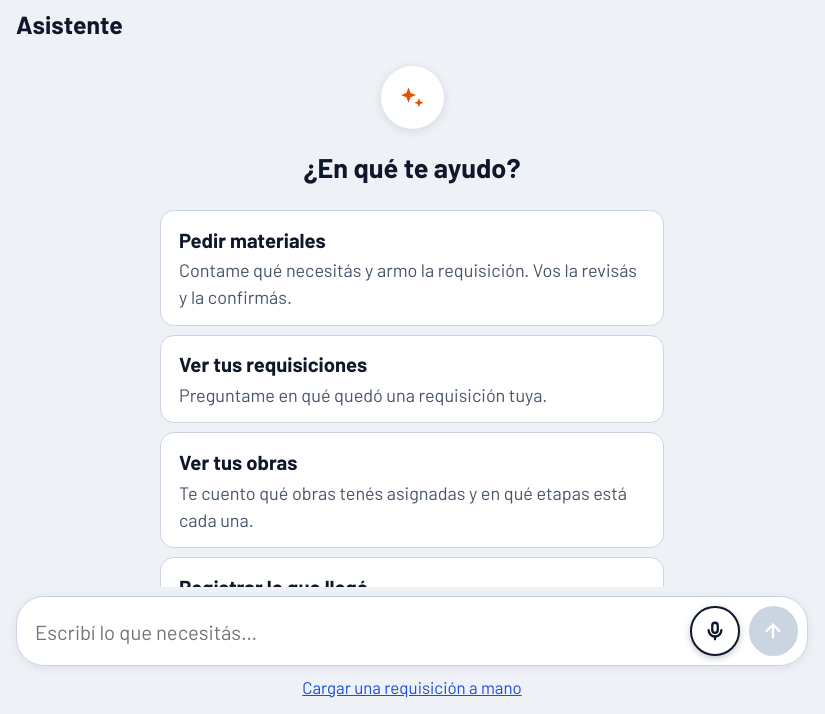
AsistenteChatPage: entrada por voz (#139) › el dictado aparece en la caja para revisarlo y NO se envía solo
(page scrolled)
Click the button named "Dictar por voz" at (715, 631), box top-left (690, 607), bottom-right (740, 656)
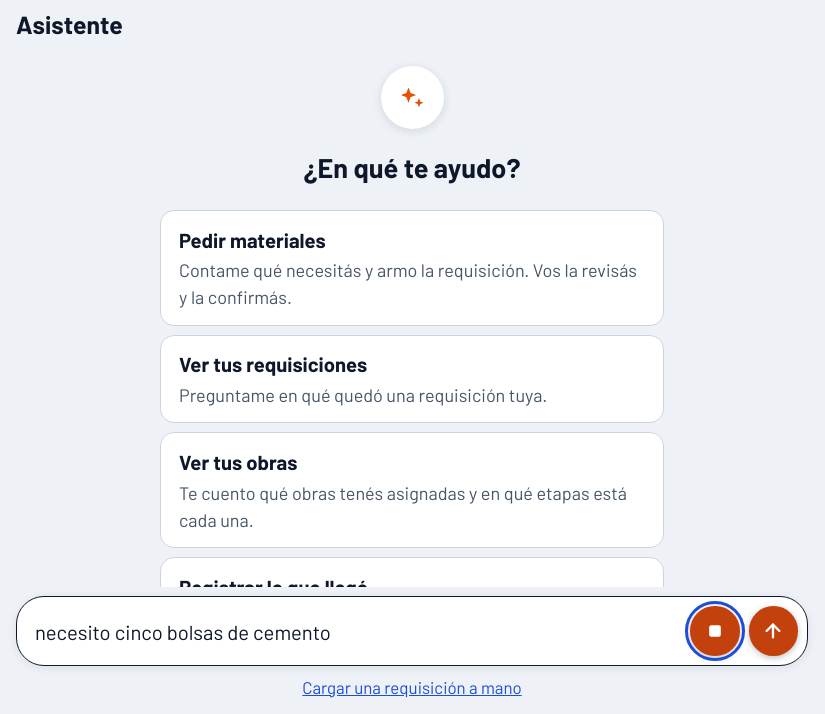
Expected: the text "¿En qué te ayudo?" is shown, top-left (304, 147), bottom-right (520, 188)
Expected: the text box named "Escribí tu mensaje" holds "necesito cinco bolsas de cemento", top-left (35, 608), bottom-right (681, 656)
Expected: the button named "Enviar" is enabled, top-left (748, 607), bottom-right (798, 656)
